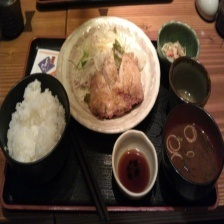rice: (1, 78, 66, 163)
